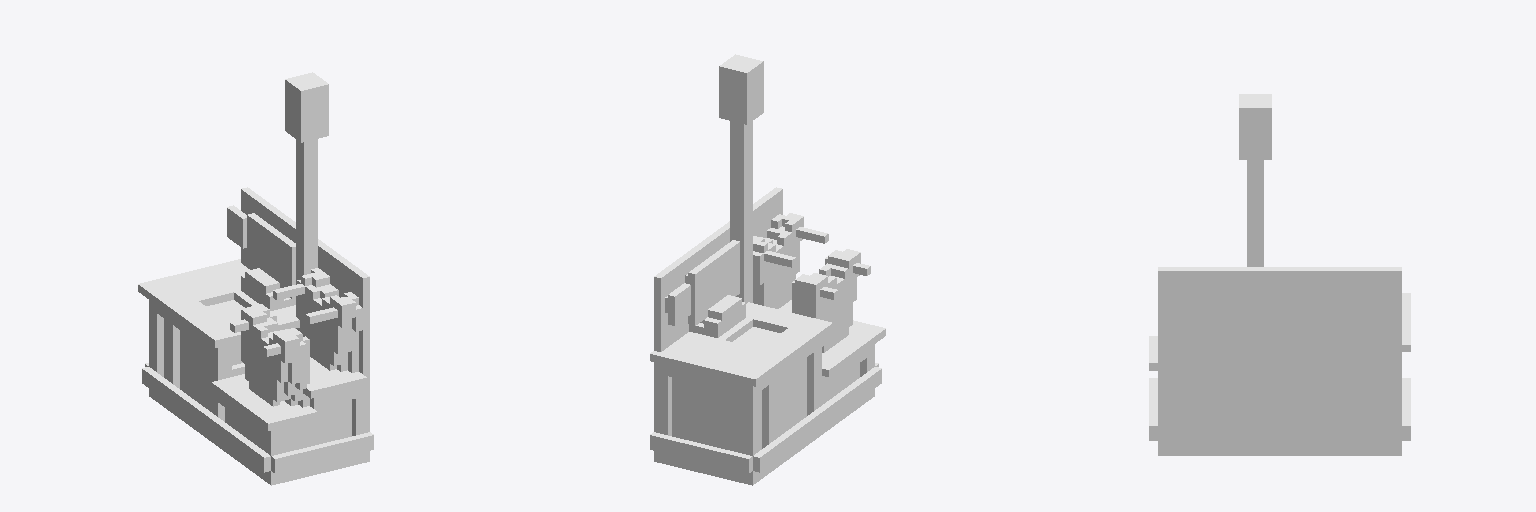
Rendered from SCOv1.obj.
3 renders of one model, left to right at view 1: azimuth 30°, elevation 25°; view 2: azimuth 150°, elevation 25°; view 3: azimuth 270°, elevation 25°, orthographic.
Visible parts, largest first — view 1: object 1; view 2: object 1; view 3: object 1.
Boxes of the visible parts, box(x1,y1,x2,y2) form: object 1: box(138, 72, 373, 485); object 1: box(650, 54, 885, 485); object 1: box(1149, 94, 1410, 455).
Size of the model in its own units: 1.5 by 4.7 by 3.2.